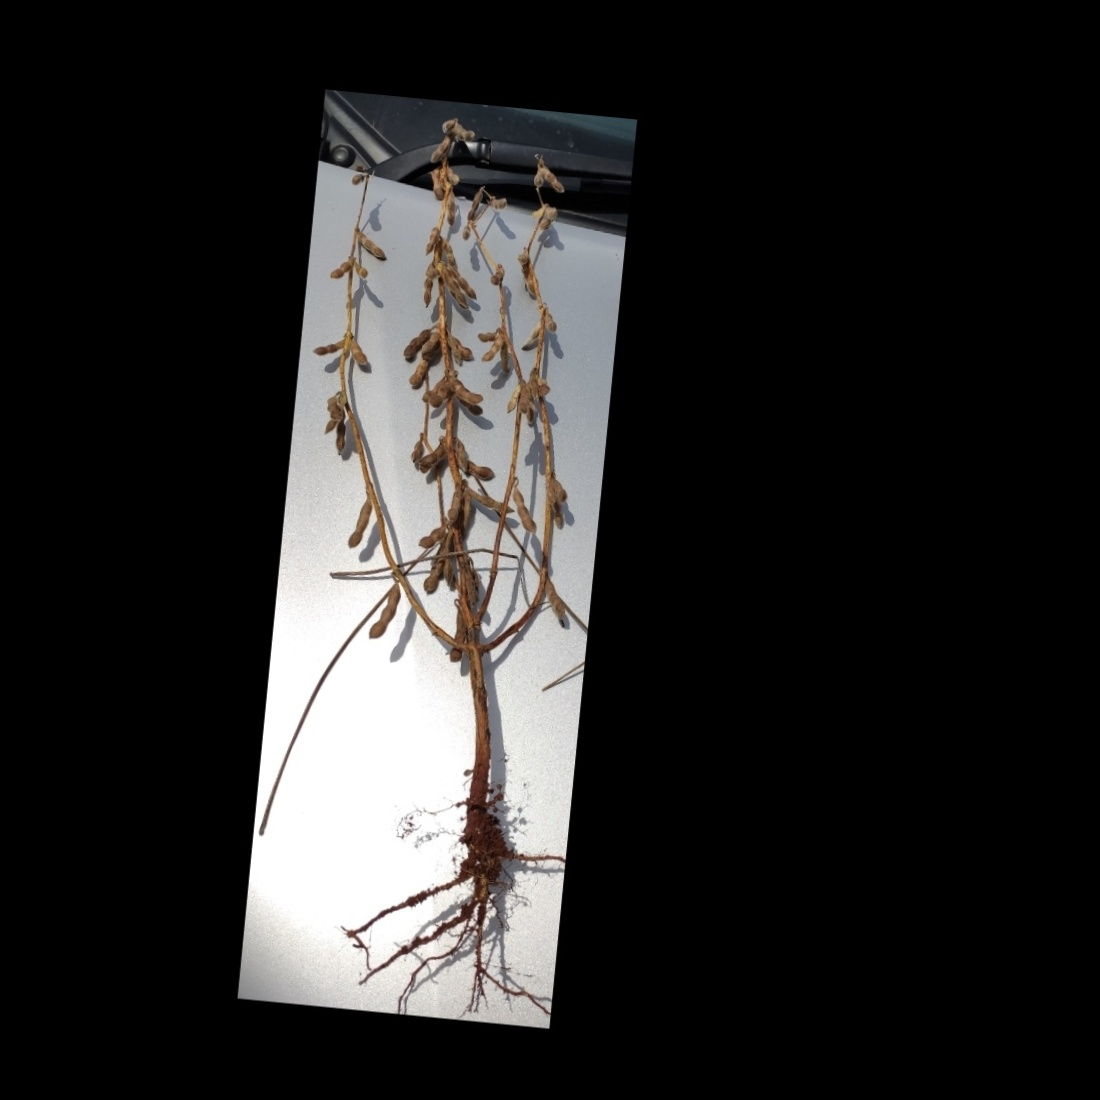pod: (364, 581, 403, 646), (341, 494, 375, 553), (508, 483, 543, 534), (354, 228, 394, 264), (440, 269, 473, 312), (541, 574, 571, 621), (400, 321, 434, 361), (417, 519, 452, 551), (417, 438, 452, 469), (307, 332, 346, 359), (478, 328, 505, 366), (323, 254, 353, 286), (428, 131, 454, 166), (538, 165, 568, 194), (444, 184, 464, 228), (549, 472, 575, 504), (463, 185, 485, 224)
soy: (247, 92, 617, 978)
